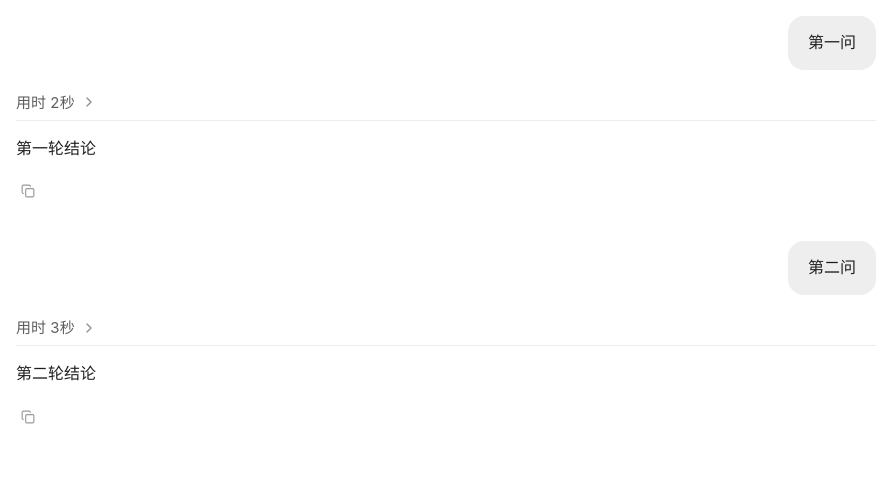
Scenario: ConversationTimeline › 各完成回合的过程展开状态相互独立
Expected: the number of elements with class "conversation-process" is 2, [16, 92, 876, 135]; [16, 317, 876, 360]
Click the heading "用时 2秒" at (45, 102), box [16, 92, 876, 121]
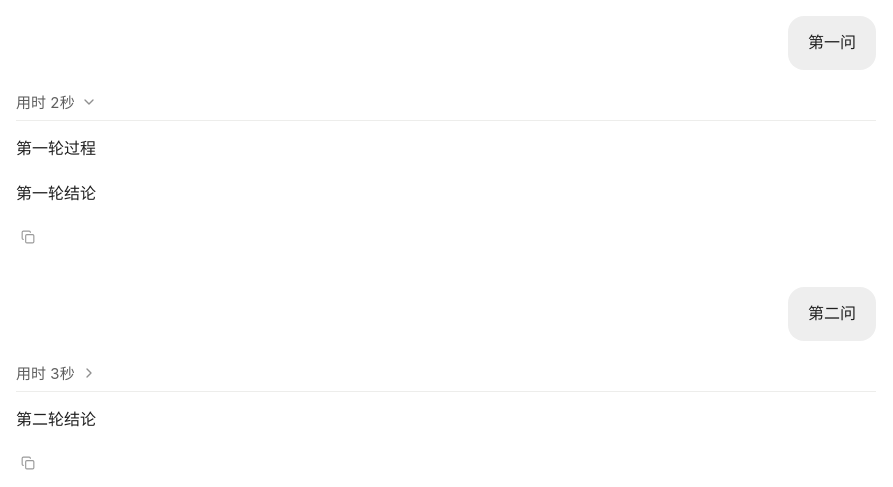
Now the text "第一轮过程" is shown, box [16, 138, 96, 158]
